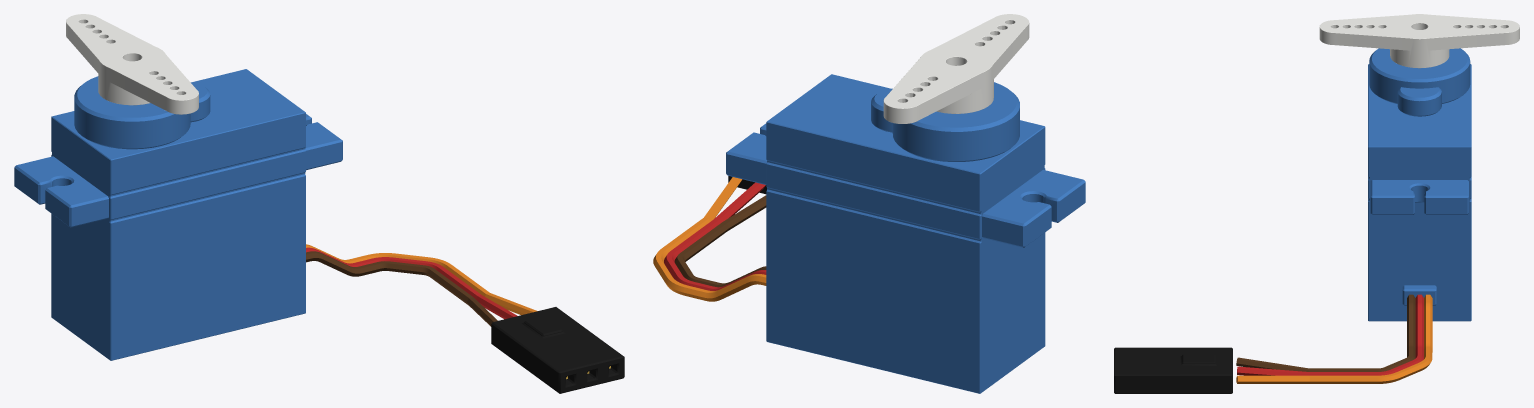
Rendered from servo_motor.glb.
3 renders of one model, left to right at view 1: azimuth 30°, elevation 25°; view 2: azimuth 150°, elevation 25°; view 3: azimuth 270°, elevation 25°, orthographic. The views are drawn at different scales.
Visible parts, largest first — view 1: Servo_Case, MOVE_Horn, Connector_Housing, Servo_Ears, Servo_Gear_Cover, Wire_GND, Wire_SIG, Wire_VCC; view 2: Servo_Case, MOVE_Horn, Servo_Ears, Servo_Gear_Cover, Wire_SIG, Wire_VCC, Wire_GND; view 3: Servo_Case, MOVE_Horn, Connector_Housing, Servo_Gear_Cover, Servo_Ears, Wire_SIG, Wire_VCC, Wire_GND, Servo_Grommet.
Part boxes in pixels (bbox=[...]): Servo_Case: bbox=[51, 69, 305, 360]; MOVE_Horn: bbox=[66, 14, 198, 114]; Connector_Housing: bbox=[491, 307, 624, 393]; Servo_Ears: bbox=[14, 114, 342, 227]; Servo_Gear_Cover: bbox=[74, 76, 210, 149]; Wire_GND: bbox=[306, 251, 497, 326]; Wire_SIG: bbox=[306, 244, 537, 315]; Wire_VCC: bbox=[306, 247, 517, 319]; Servo_Case: bbox=[766, 74, 1045, 393]; MOVE_Horn: bbox=[883, 14, 1029, 123]; Servo_Ears: bbox=[726, 123, 1085, 247]; Servo_Gear_Cover: bbox=[871, 82, 1019, 161]; Wire_SIG: bbox=[653, 177, 766, 301]; Wire_VCC: bbox=[664, 182, 766, 290]; Wire_GND: bbox=[674, 195, 766, 287]; Servo_Case: bbox=[1368, 64, 1471, 321]; MOVE_Horn: bbox=[1319, 14, 1519, 68]; Connector_Housing: bbox=[1114, 347, 1232, 393]; Servo_Gear_Cover: bbox=[1369, 48, 1470, 116]; Servo_Ears: bbox=[1370, 180, 1468, 214]; Wire_SIG: bbox=[1236, 294, 1432, 383]; Wire_VCC: bbox=[1237, 294, 1423, 375]; Wire_GND: bbox=[1236, 294, 1415, 371]; Servo_Grommet: bbox=[1402, 285, 1436, 305].
Bounding box in the file's own units: 0.048 × 0.0304 × 0.0478.
